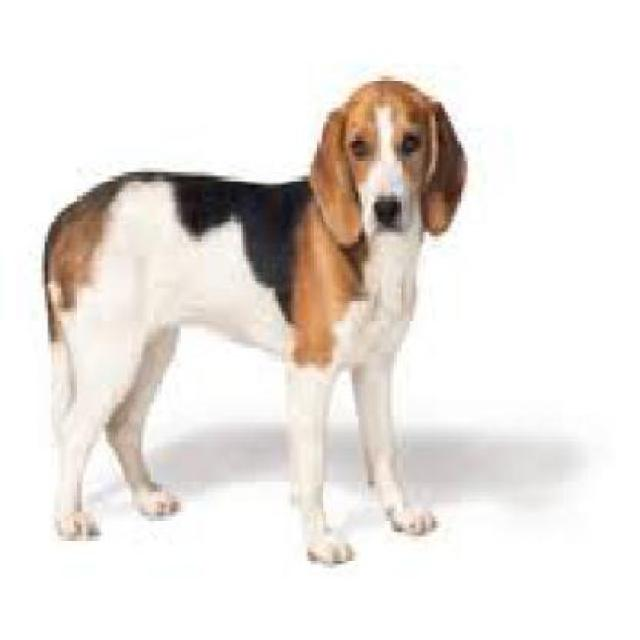Dog: (37, 72, 471, 568)
